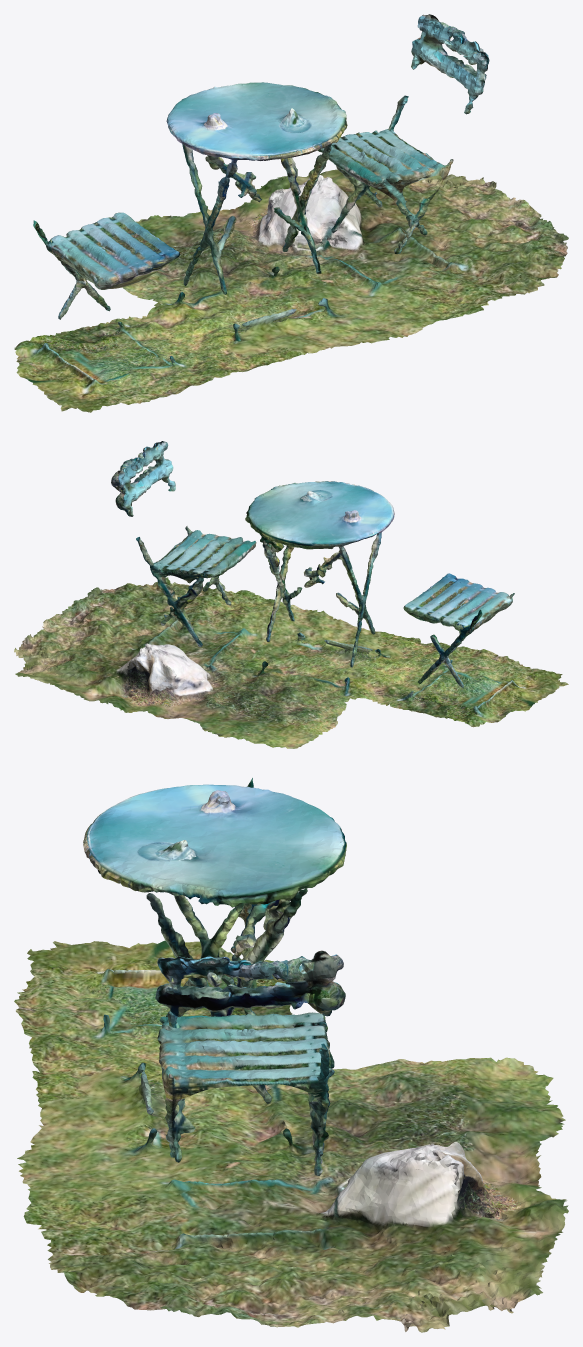
File: guinguette.glb
3 views of the same model, one above another, from view 1: azimuth 30°, elevation 25°; view 2: azimuth 150°, elevation 25°; view 3: azimuth 270°, elevation 25° (orthographic). The views are drawn at different scales.
Visible parts, largest first — view 1: Mesh_0; view 2: Mesh_0; view 3: Mesh_0.
Part boxes in pixels (x1,y1,x2,y2): Mesh_0: (14, 14, 568, 412); Mesh_0: (14, 441, 568, 748); Mesh_0: (14, 778, 568, 1332).
Bounding box in the file's own units: 2.17 × 0.8283 × 1.29.
1 material, 1 textured.
